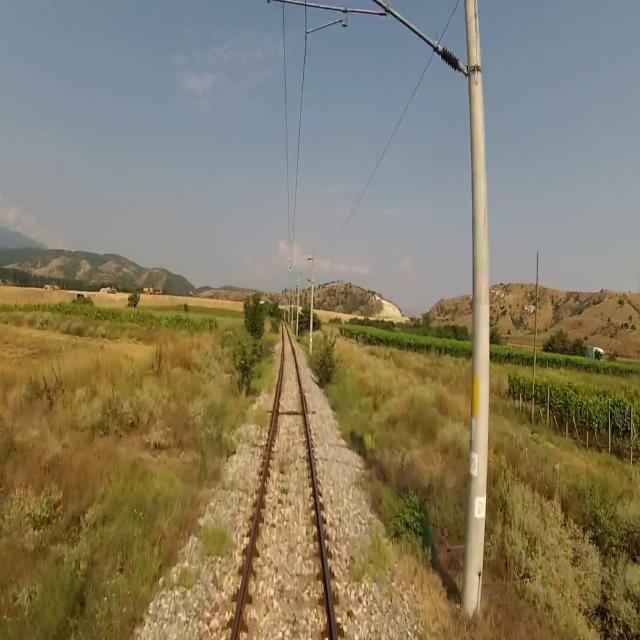rail-track: (235, 326, 333, 639)
